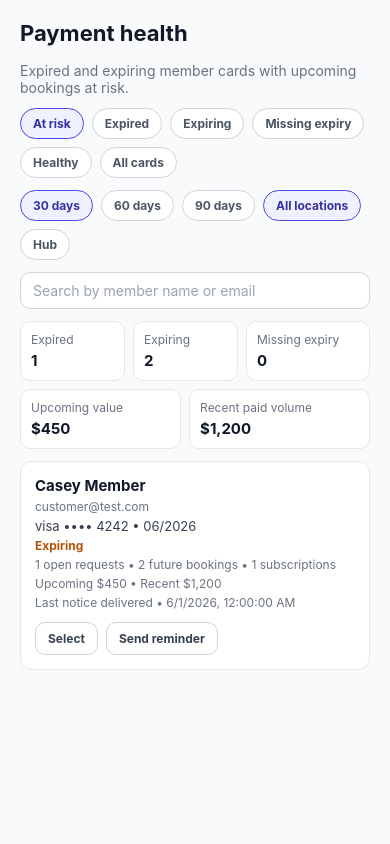
it: OwnerPaymentHealthScreen › bulk-sends to selected cards without force
Click the button with aria-label "Select pm_1".
click(66, 638)  # box [35,622,98,655]
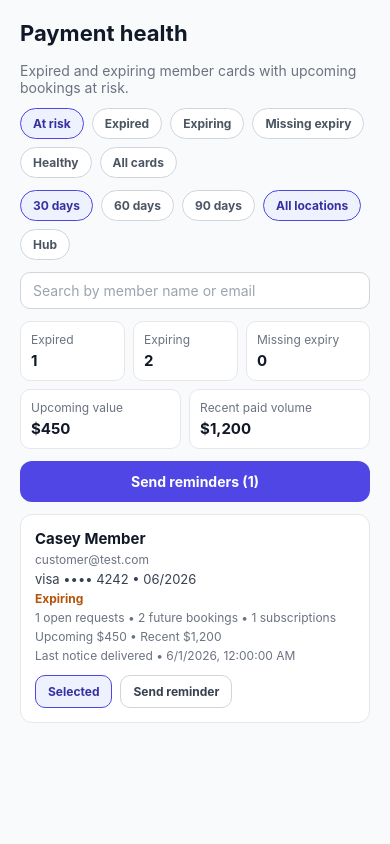
Click the button with aria-label "Send reminders to selected".
click(195, 482)  # box [20,461,370,502]
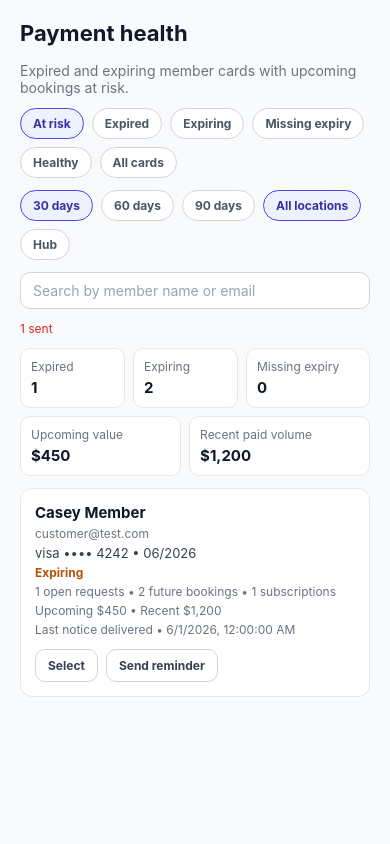
Check: the text "1 sent" is shown, box [20,321,53,336]
